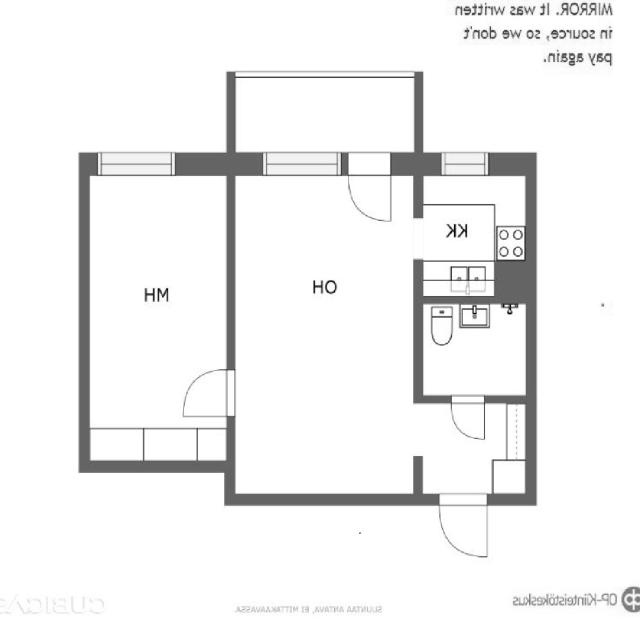door: (341, 152, 399, 232), (431, 491, 494, 562), (174, 363, 234, 423), (446, 391, 490, 448)
window: (255, 144, 349, 184), (91, 144, 183, 182), (434, 144, 496, 179), (408, 211, 428, 267)
zone: (228, 168, 422, 498), (84, 165, 232, 466), (414, 168, 530, 296), (412, 297, 531, 400)
